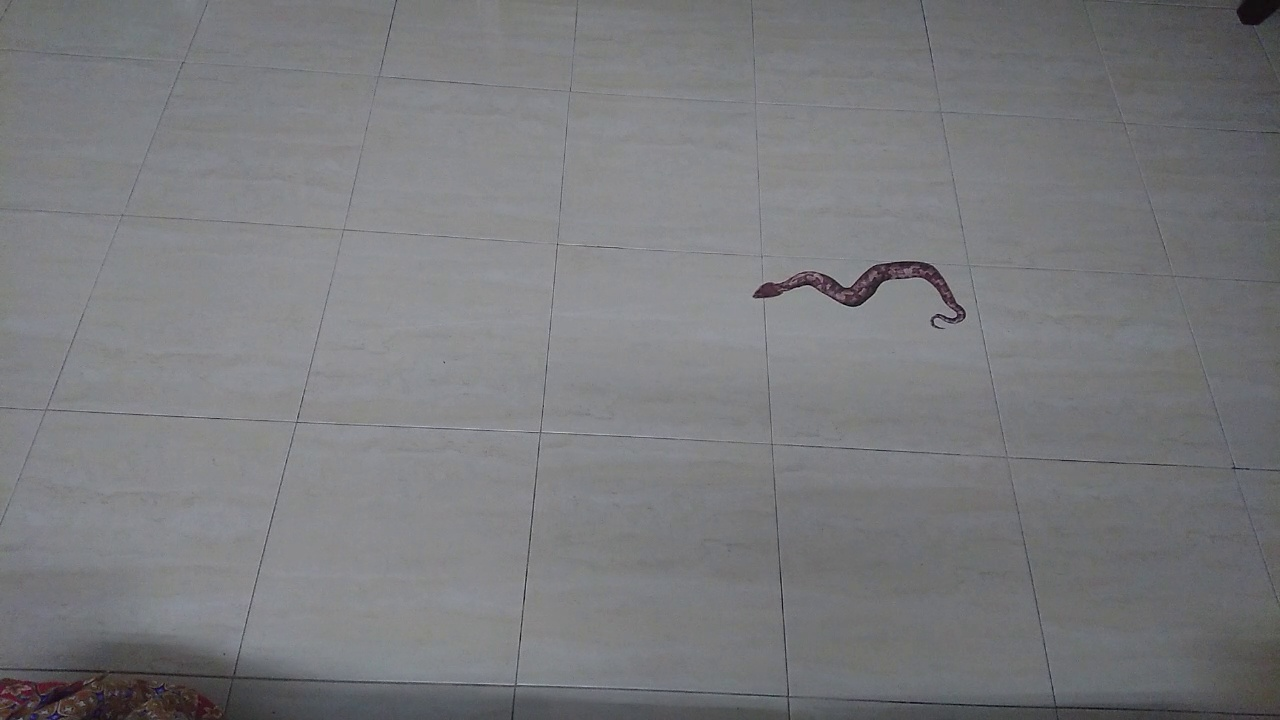snake: (737, 249, 978, 341)
